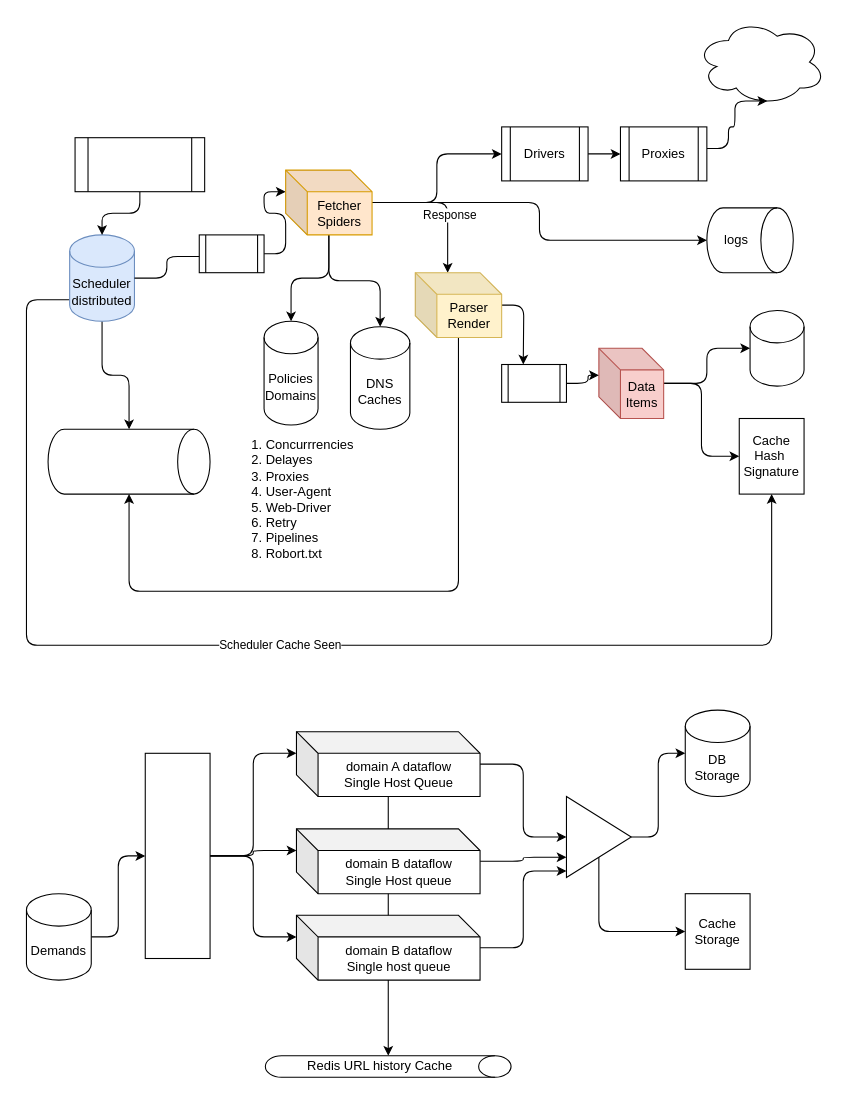
Some shapes in this 845 by 1096 pixel diagram are drawn without their labels. Here are the shapes that lost their labels. From the top down, the centre of each, then its label:
point 760,61: Internet Domain
point 139,164: 1. URL normalize 2. URL filter 3. URL seen
point 231,253: Delay Thread
point 776,347: Html Store
point 533,382: Piipeline
point 128,461: 1. Open 2. Enqueue 3. Pending 4. Next 5. Close Cache/ Single
point 177,855: LB Proxies
point 598,836: Items
